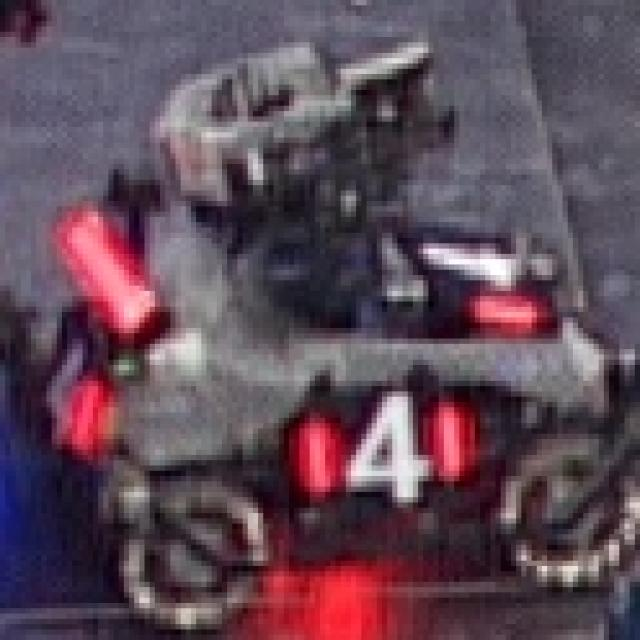R4: (294, 391, 475, 508), (413, 201, 547, 333), (36, 318, 103, 460)
